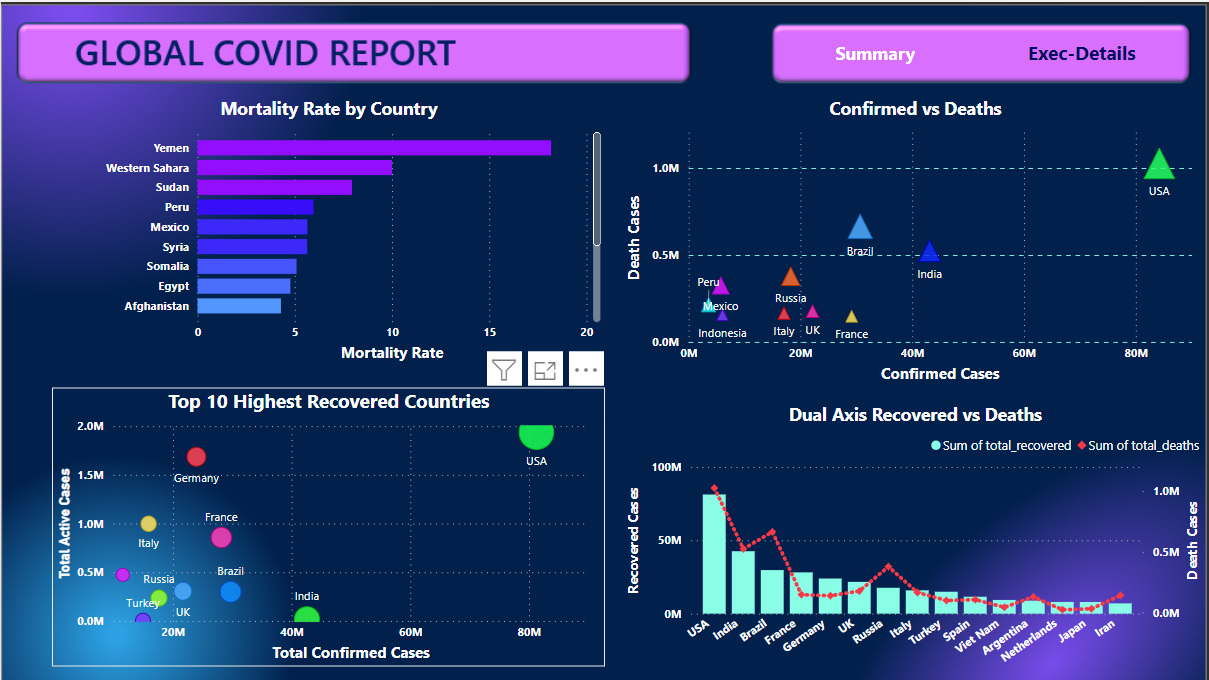

The page's visual inventory and layout, read from the dashboard file:
{"tool":"powerbi","page":{"name":"Exec-Details","canvas":[1280,720],"ordinal":1},"visuals":[{"type":"scatterChart","title":"Confirmed vs Deaths","fields":{"Category":["worldometer_coronavirus_summary_data.country"],"X":["Sum(worldometer_coronavirus_summary_data.total_confirmed)"],"Y":["Sum(worldometer_coronavirus_summary_data.total_deaths)"],"Size":["Sum(worldometer_coronavirus_summary_data.total_deaths)"],"Series":["worldometer_coronavirus_summary_data.country"]},"box":[658,100.1,621.5,308.3],"z":0},{"type":"clusteredBarChart","title":"Mortality Rate by Country","fields":{"Category":["Global_covid_Data.country"],"Y":["Sum(Global_covid_Data.mortality_rate)"]},"box":[54,100.1,586.5,286.1],"z":1000},{"type":"lineClusteredColumnComboChart","title":"Dual Axis Recovered vs Deaths","fields":{"Category":["Global_covid_Data.country"],"Y":["Sum(Global_covid_Data.total_recovered)"],"Y2":["Sum(Global_covid_Data.total_deaths)"]},"box":[658,424.4,621.5,295.6],"z":2000},{"type":"scatterChart","title":"Top 10 Highest Recovered Countries","fields":{"Category":["worldometer_coronavirus_summary_data.country"],"Size":["Avg(worldometer_coronavirus_summary_data.total_recovered)"],"Series":["worldometer_coronavirus_summary_data.country"],"X":["Avg(worldometer_coronavirus_summary_data.total_recovered)"],"Y":["Sum(worldometer_coronavirus_summary_data.active_cases)"]},"box":[54,408.5,586.5,295.6],"z":3000},{"type":"pageNavigator","box":[821.7,27,429.1,52.5],"z":3001}]}

Visuals, with their boxes in screenshot pixels (x1, y1, x2, y2), scaled from the page's 1280x720 canvas onto the 1209x680 screenshot:
"Confirmed vs Deaths" scatterChart: {"x1": 622, "y1": 95, "x2": 1208, "y2": 386}
"Mortality Rate by Country" clusteredBarChart: {"x1": 51, "y1": 95, "x2": 605, "y2": 365}
"Dual Axis Recovered vs Deaths" lineClusteredColumnComboChart: {"x1": 622, "y1": 401, "x2": 1208, "y2": 679}
"Top 10 Highest Recovered Countries" scatterChart: {"x1": 51, "y1": 386, "x2": 605, "y2": 665}
pageNavigator: {"x1": 776, "y1": 26, "x2": 1181, "y2": 75}
